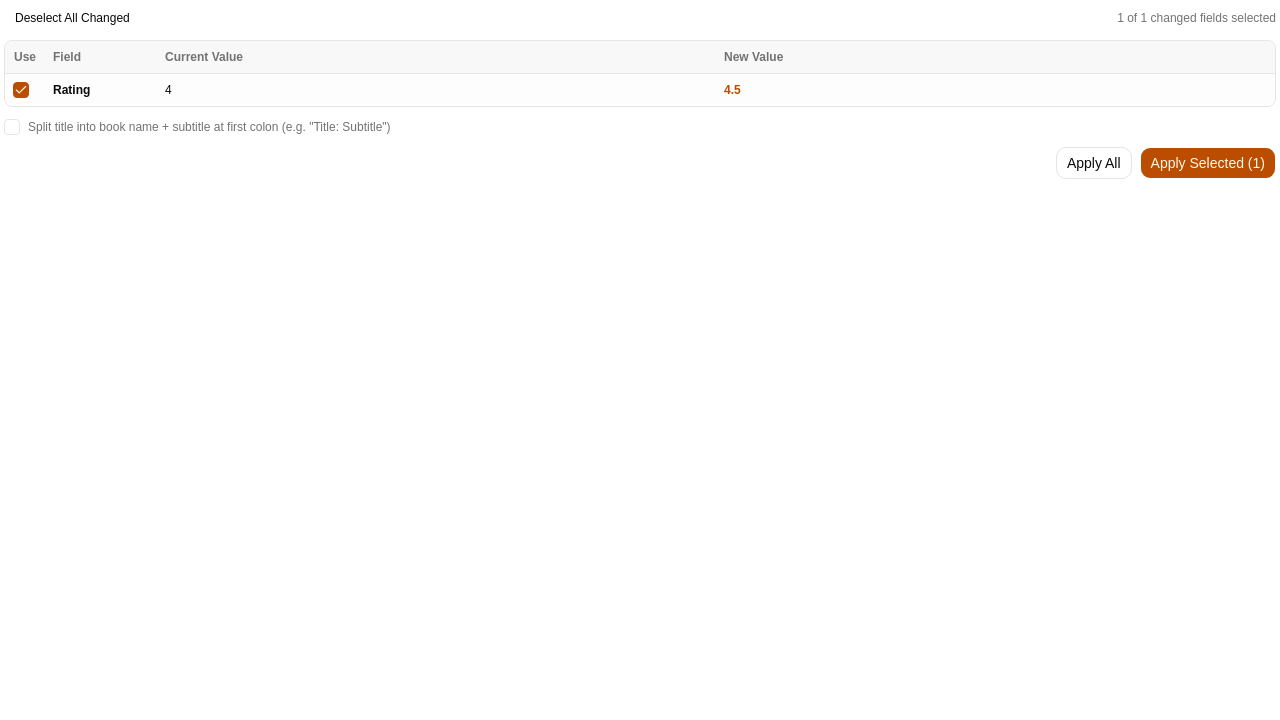
Test case: PendingRefreshRowPanel › target path collision › offers the duplicate-target dialog instead of applying when a file is already at the new path
What coordinates should you click on to do the following:
click the button "Apply Selected (1)"
I would click on:
 (1208, 163)
Its box is [1140,147,1276,179].
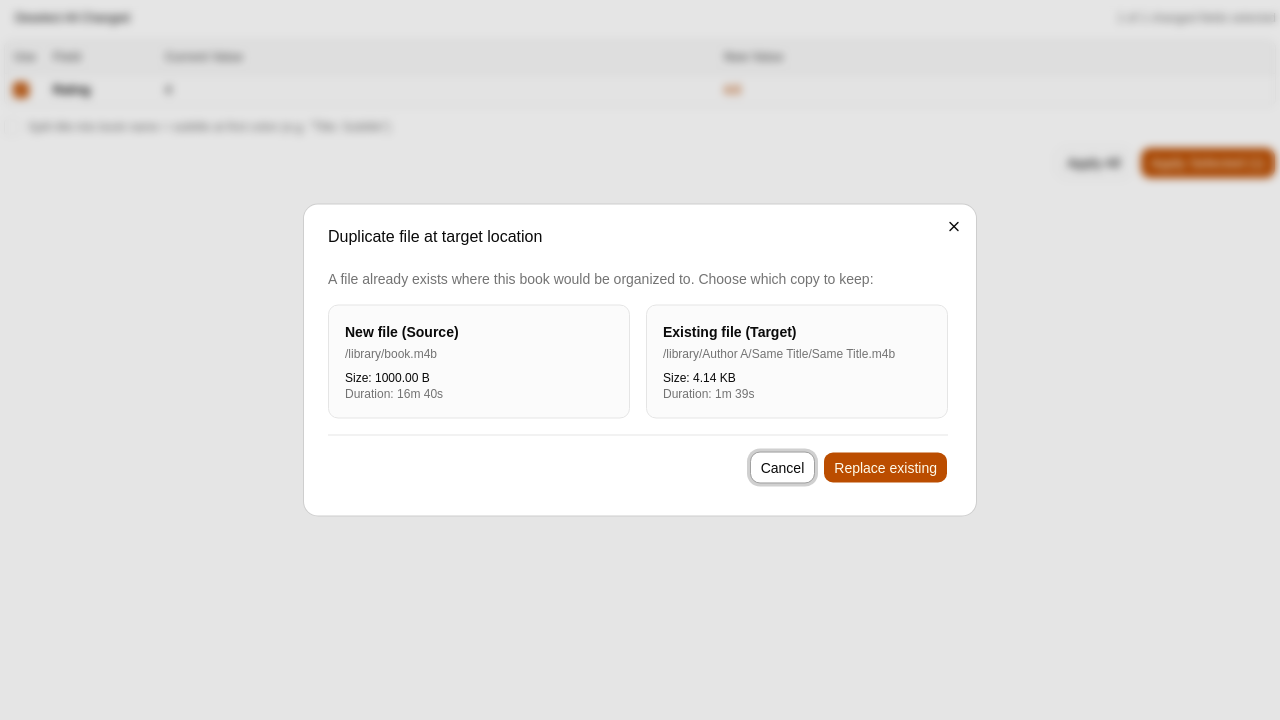
Expected: the heading "Duplicate file at target location" is shown, [328,228,542,244]
Expected: the text "/library/Author A/Same Title/Same Title.m4b" is shown, [663,346,931,362]
